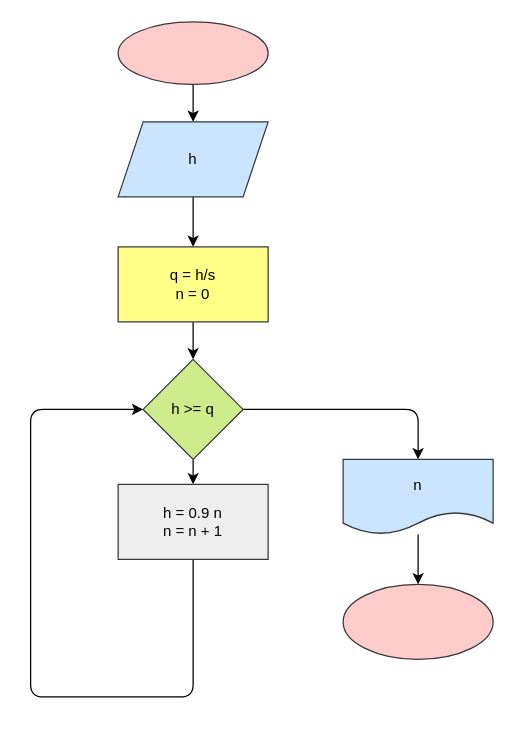
This 515x729 diagram has some shape labels left out. The shapes that lost their labels are listed below. From the top down, each one's box as (x1, y1, x2, y2) in pixels, then its label:
(117, 21, 268, 84): INICIO
(342, 583, 493, 659): FIN
